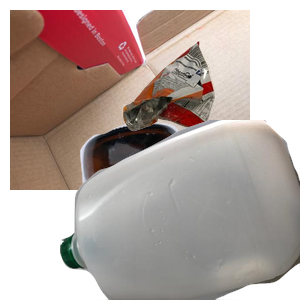cardboard: (10, 10, 250, 190)
glass: (78, 120, 281, 300)
plastic: (60, 120, 300, 300)
trash: (120, 38, 300, 164)
